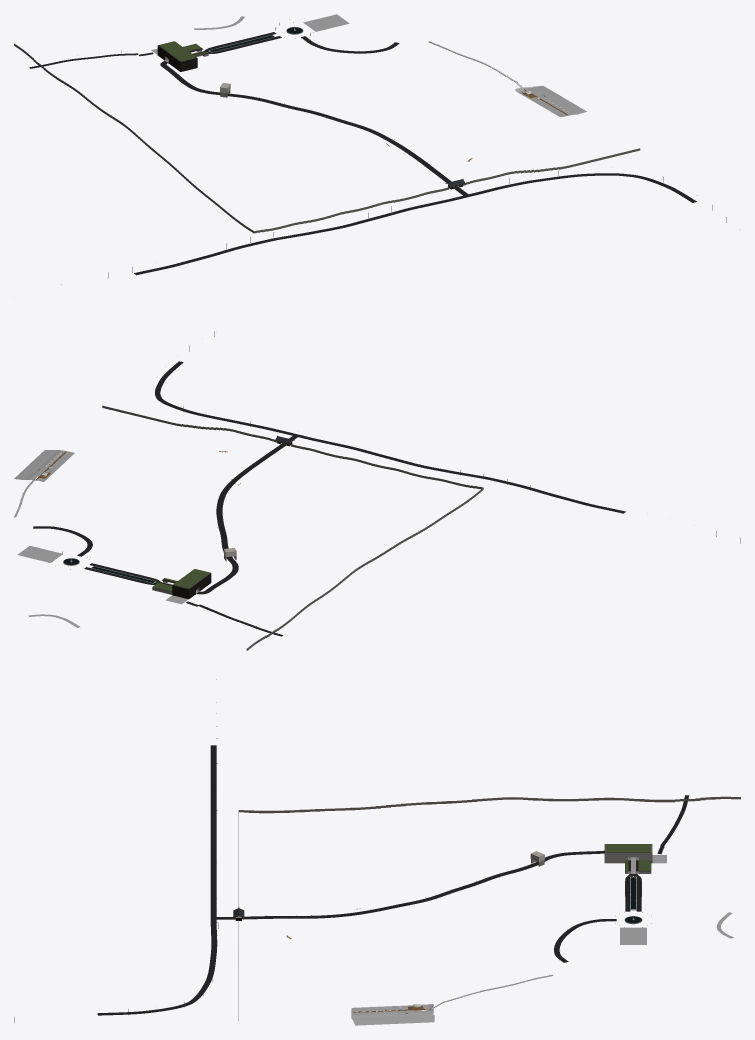
The model's file is estate.glb.
3 renders of one model, top to bottom at view 1: azimuth 30°, elevation 25°; view 2: azimuth 150°, elevation 25°; view 3: azimuth 270°, elevation 25°, orthographic. The views are drawn at different scales.
Parts seen in each view (by area): view 1: estate__asphalt, estate__misc, estate__stone, estate__sand, estate__roof; view 2: estate__asphalt, estate__misc, estate__stone, estate__sand; view 3: estate__asphalt, estate__misc, estate__stone, estate__sand, estate__wood, estate__roof.
Part boxes in pixels (x1,y1,x2,y2): estate__asphalt: (29,32,696,275); estate__misc: (14,43,726,284); estate__stone: (151,14,533,194); estate__sand: (515,85,586,117); estate__roof: (159,41,207,61); estate__asphalt: (33,361,625,636); estate__misc: (102,331,740,650); estate__stone: (14,436,297,627); estate__sand: (14,450,74,481); estate__asphalt: (97,745,689,1015); estate__misc: (14,679,740,1022); estate__stone: (229,850,733,1009); estate__sand: (351,1004,434,1025); estate__wood: (233,844,651,1014); estate__roof: (605,844,651,870).
Bounding box in the file's own units: 920 × 48.96 × 866.
